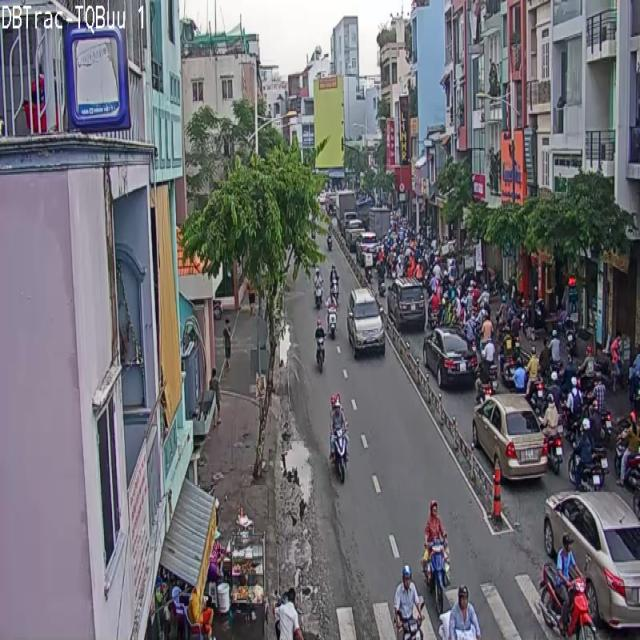car: (422, 501, 448, 612), (330, 401, 348, 482)
traffic-light: (543, 491, 639, 629), (472, 395, 547, 478), (424, 327, 474, 388), (346, 289, 384, 356), (387, 277, 426, 327)
